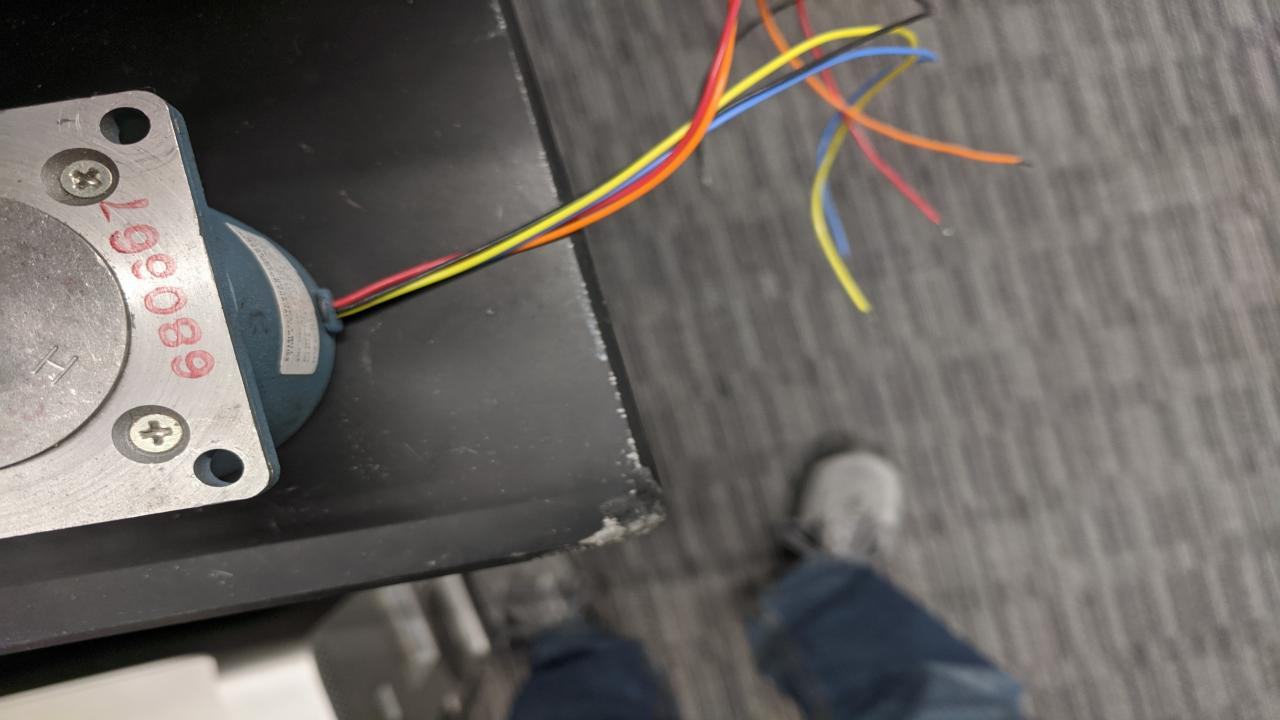CRS: (58, 155, 118, 205), (124, 413, 188, 454)
